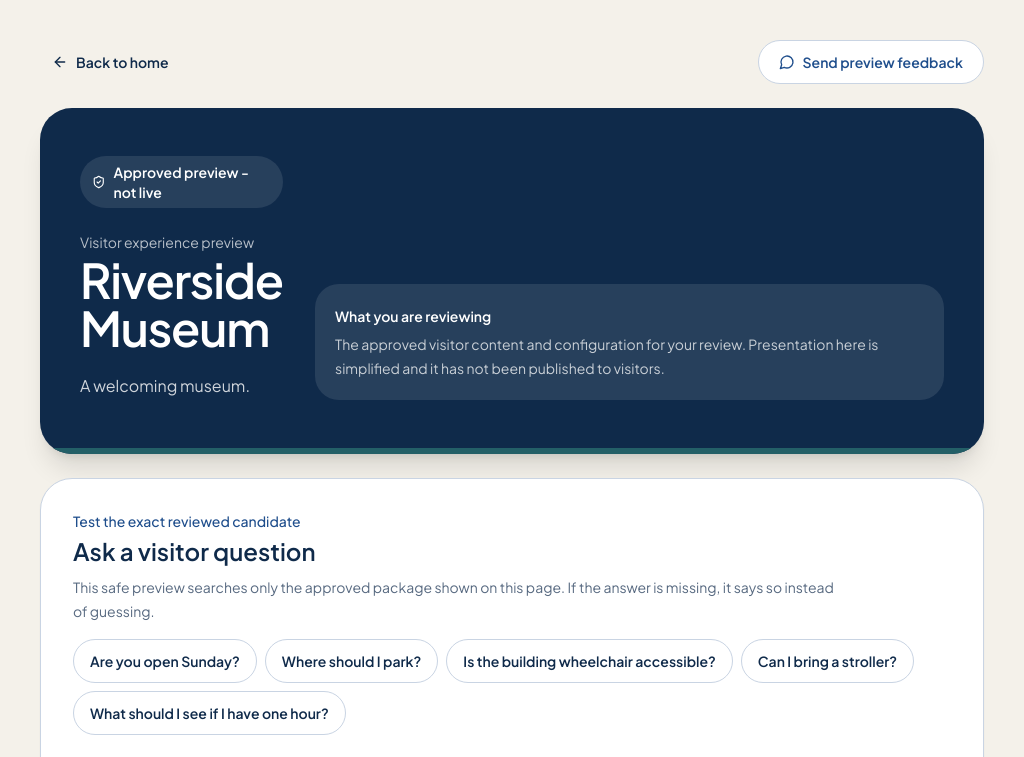
Test: ClientPackagePreview › tests guided and open questions against the exact package and records answer feedback
Click the button "What should I see if I have one hour?". click: coordinates (209, 713)
box: x1=73 y1=691 x2=346 y2=735
(page scrolled)
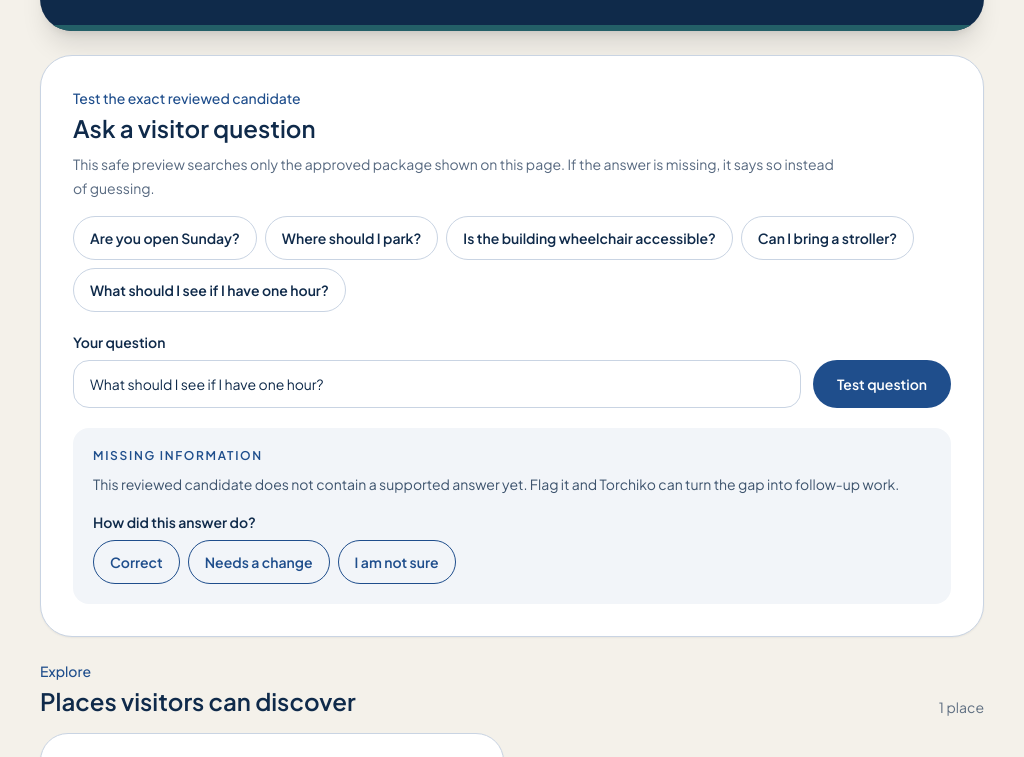
Expected: the text "does not contain a supported answer" is shown, x1=93 y1=475 x2=899 y2=493
Replace the text in the field labelled "Your question" with "Where is the arrival entrance?". click: coordinates (437, 384)
box: x1=73 y1=360 x2=801 y2=408
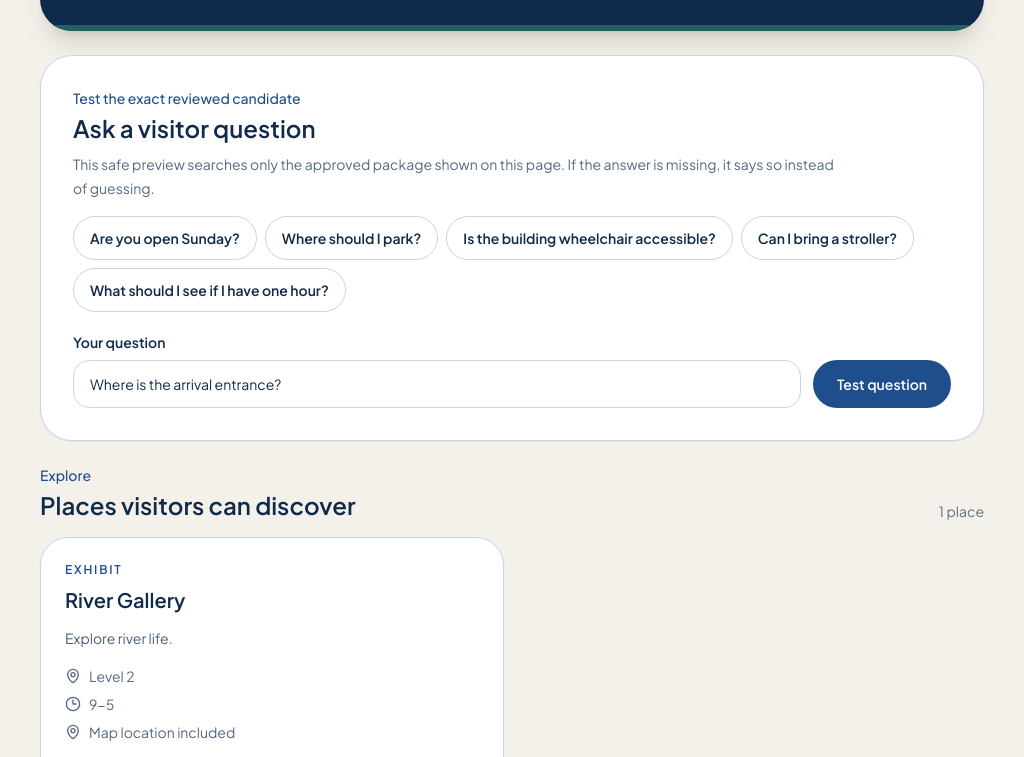
Click the button "Test question". click: coordinates (882, 384)
box: x1=813 y1=360 x2=951 y2=408
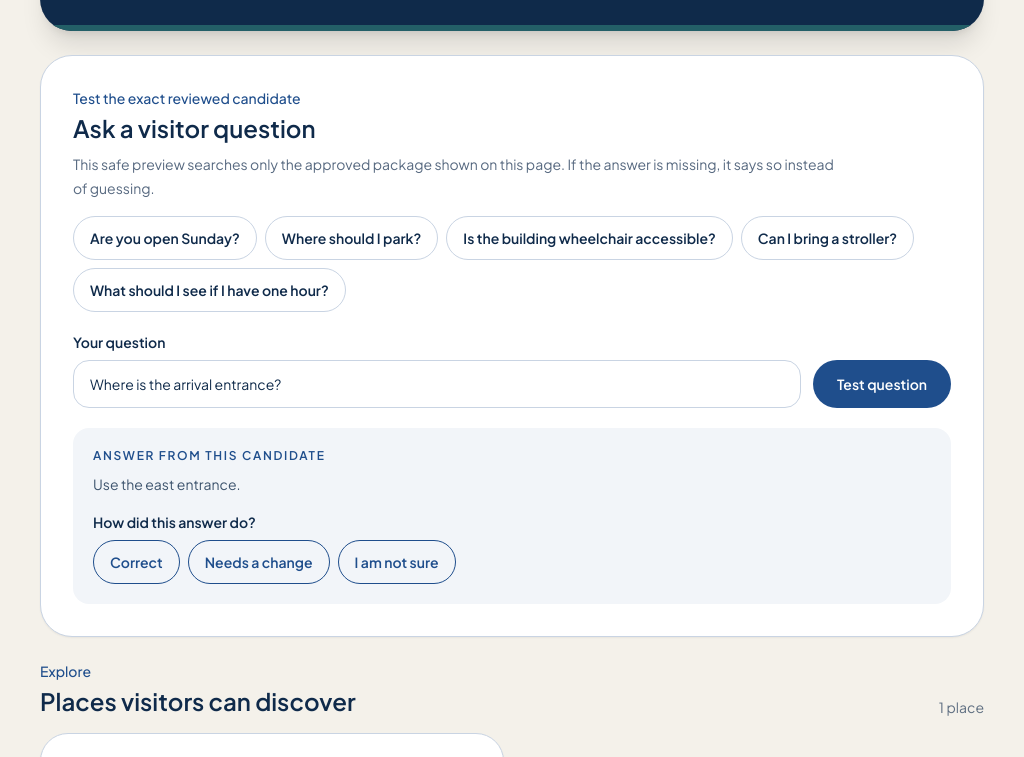
Expected: the text "Use the east entrance." is shown 2 times
Click the button "Needs a change". click: coordinates (259, 562)
box: x1=188 y1=540 x2=330 y2=584
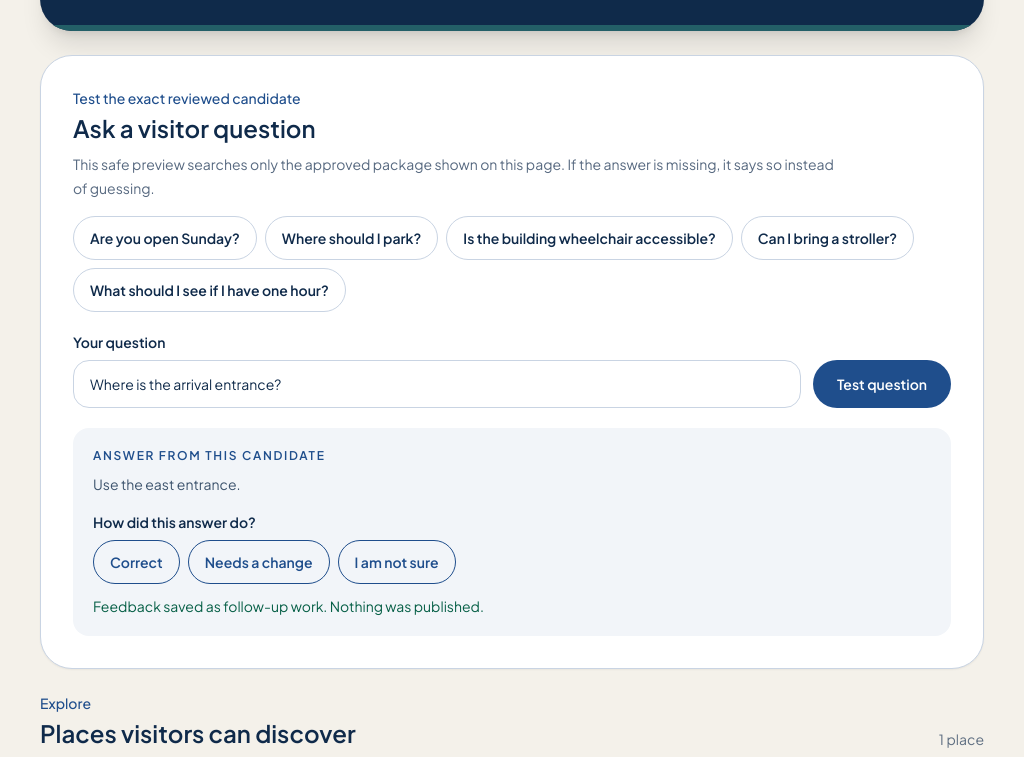
Expected: the text "Feedback saved as follow-up work. Nothing was published." is shown, x1=93 y1=597 x2=484 y2=615
